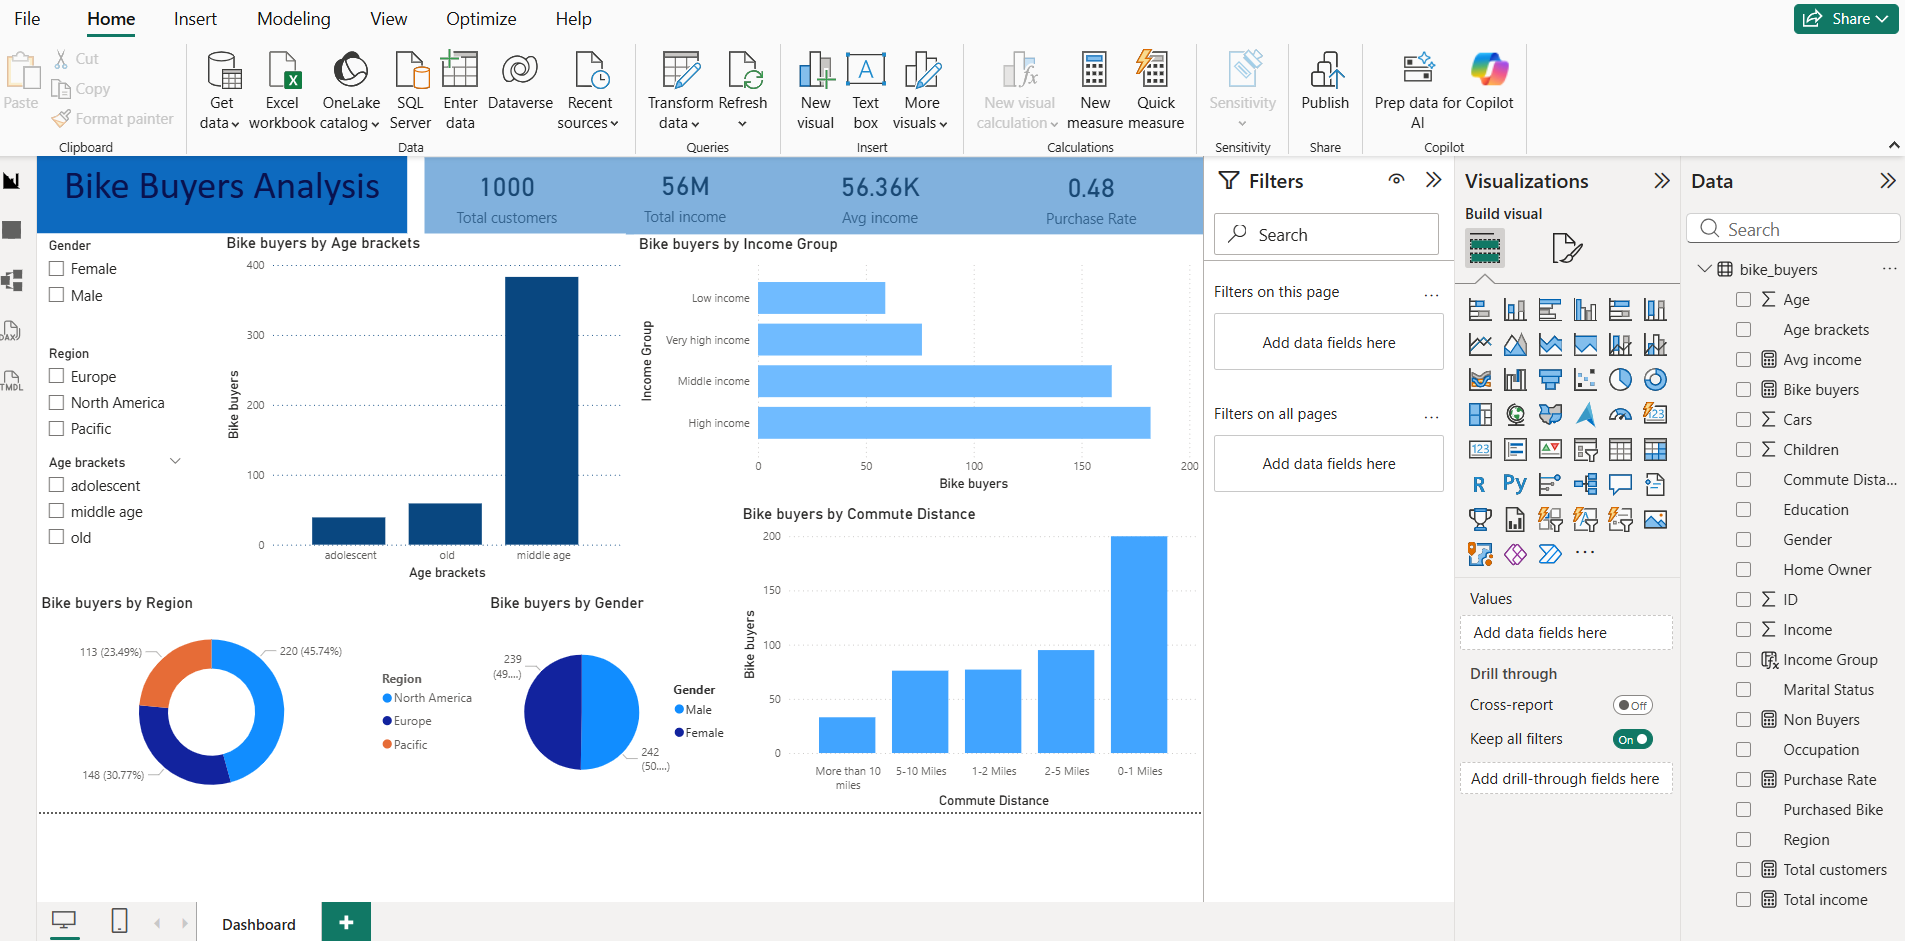

This screenshot's page, from the dashboard's own definition file:
{"tool":"powerbi","page":{"name":"Page 1","canvas":[1280,720],"ordinal":0},"visuals":[{"type":"card","fields":{"Values":["bike_buyers.Total customers"]},"box":[425.4,0,181.1,85.1],"z":0},{"type":"card","fields":{"Values":["bike_buyers.Total income"]},"box":[606.5,0,209.9,83.7],"z":1000},{"type":"card","fields":{"Values":["bike_buyers.Avg income"]},"box":[816.5,0,218.2,85.1],"z":2000},{"type":"card","fields":{"Values":["bike_buyers.Purchase Rate"]},"box":[1034.7,1.4,245.6,85.1],"z":3000},{"type":"shape","box":[425.4,1.4,854.9,85.1],"z":4000},{"type":"clusteredColumnChart","fields":{"Category":["bike_buyers.Age brackets"],"Y":["bike_buyers.Bike buyers"]},"box":[203.1,85.1,443.2,385.6],"z":5000},{"type":"pieChart","fields":{"Category":["bike_buyers.Gender"],"Y":["bike_buyers.Bike buyers"]},"box":[492.6,480.3,277.2,240.1],"z":6000},{"type":"clusteredBarChart","fields":{"Category":["bike_buyers.Income Group"],"Y":["bike_buyers.Bike buyers"]},"box":[655.9,86.4,624.4,286.8],"z":7000},{"type":"donutChart","fields":{"Category":["bike_buyers.Region"],"Y":["bike_buyers.Bike buyers"]},"box":[0,480.3,492.6,240.1],"z":8000},{"type":"columnChart","fields":{"Category":["bike_buyers.Commute Distance"],"Y":["bike_buyers.Bike buyers"]},"box":[769.8,382.8,510.5,337.6],"z":9000},{"type":"slicer","fields":{"Values":["bike_buyers.Gender"]},"box":[0,84.6,170.8,118.5],"z":10000},{"type":"slicer","fields":{"Values":["bike_buyers.Region"]},"box":[0,203.1,170.8,120],"z":11000},{"type":"slicer","fields":{"Values":["bike_buyers.Age brackets"]},"box":[0,323.1,170.8,120],"z":12000},{"type":"textbox","box":[0,0,406.2,85.1],"z":13000}]}

Visuals, with their boxes on the page's 1280x720 design canvas (x1, y1, x2, y2). These are canvas units, not pixel positions in the 1905x941 screenshot, which may show the page scaled, cropped or inside an application window:
card - bike_buyers.Total customers: <region>425, 0, 606, 85</region>
card - bike_buyers.Total income: <region>606, 0, 816, 84</region>
card - bike_buyers.Avg income: <region>816, 0, 1035, 85</region>
card - bike_buyers.Purchase Rate: <region>1035, 1, 1280, 86</region>
shape: <region>425, 1, 1280, 86</region>
clusteredColumnChart - bike_buyers.Age brackets x bike_buyers.Bike buyers: <region>203, 85, 646, 471</region>
pieChart - bike_buyers.Gender x bike_buyers.Bike buyers: <region>493, 480, 770, 720</region>
clusteredBarChart - bike_buyers.Income Group x bike_buyers.Bike buyers: <region>656, 86, 1280, 373</region>
donutChart - bike_buyers.Region x bike_buyers.Bike buyers: <region>0, 480, 493, 720</region>
columnChart - bike_buyers.Commute Distance x bike_buyers.Bike buyers: <region>770, 383, 1280, 720</region>
slicer - bike_buyers.Gender: <region>0, 85, 171, 203</region>
slicer - bike_buyers.Region: <region>0, 203, 171, 323</region>
slicer - bike_buyers.Age brackets: <region>0, 323, 171, 443</region>
textbox: <region>0, 0, 406, 85</region>
